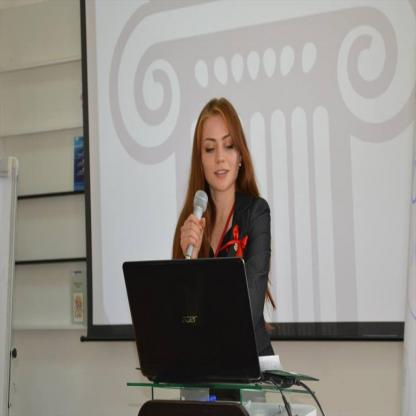board: (121, 260, 300, 387)
